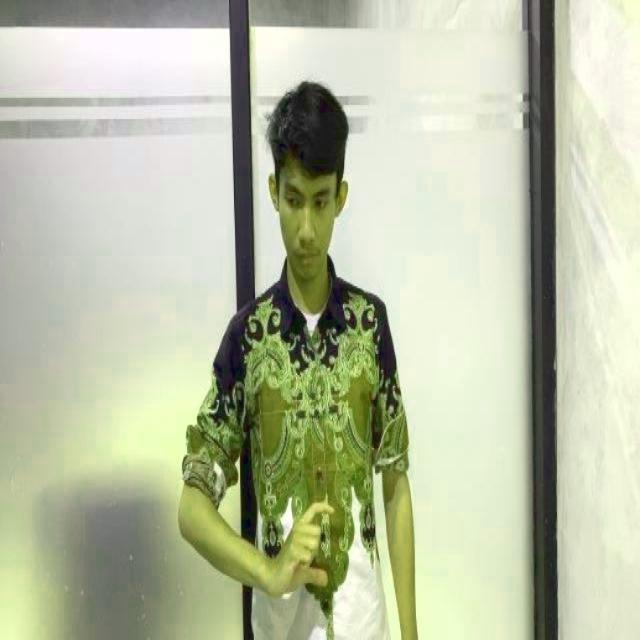C: (278, 492, 346, 594)
